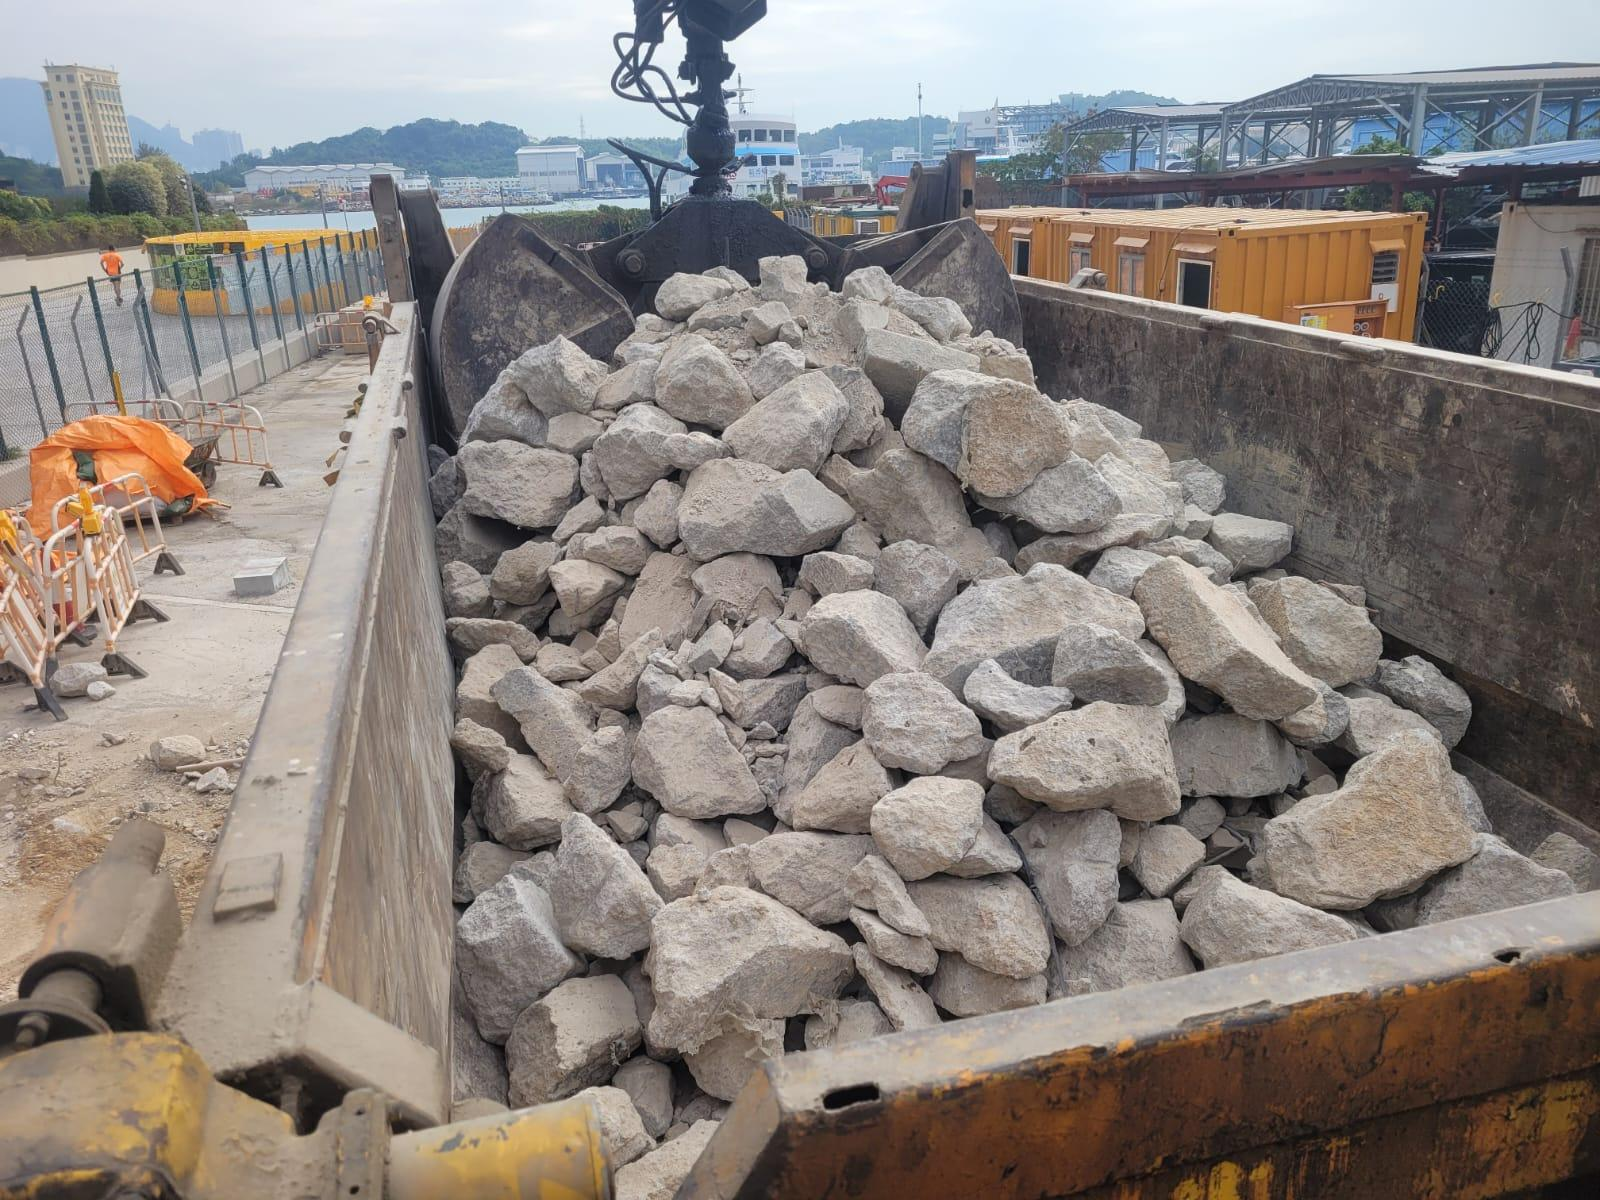dirt: (0, 334, 377, 1008)
stone: (433, 248, 1582, 1177)
